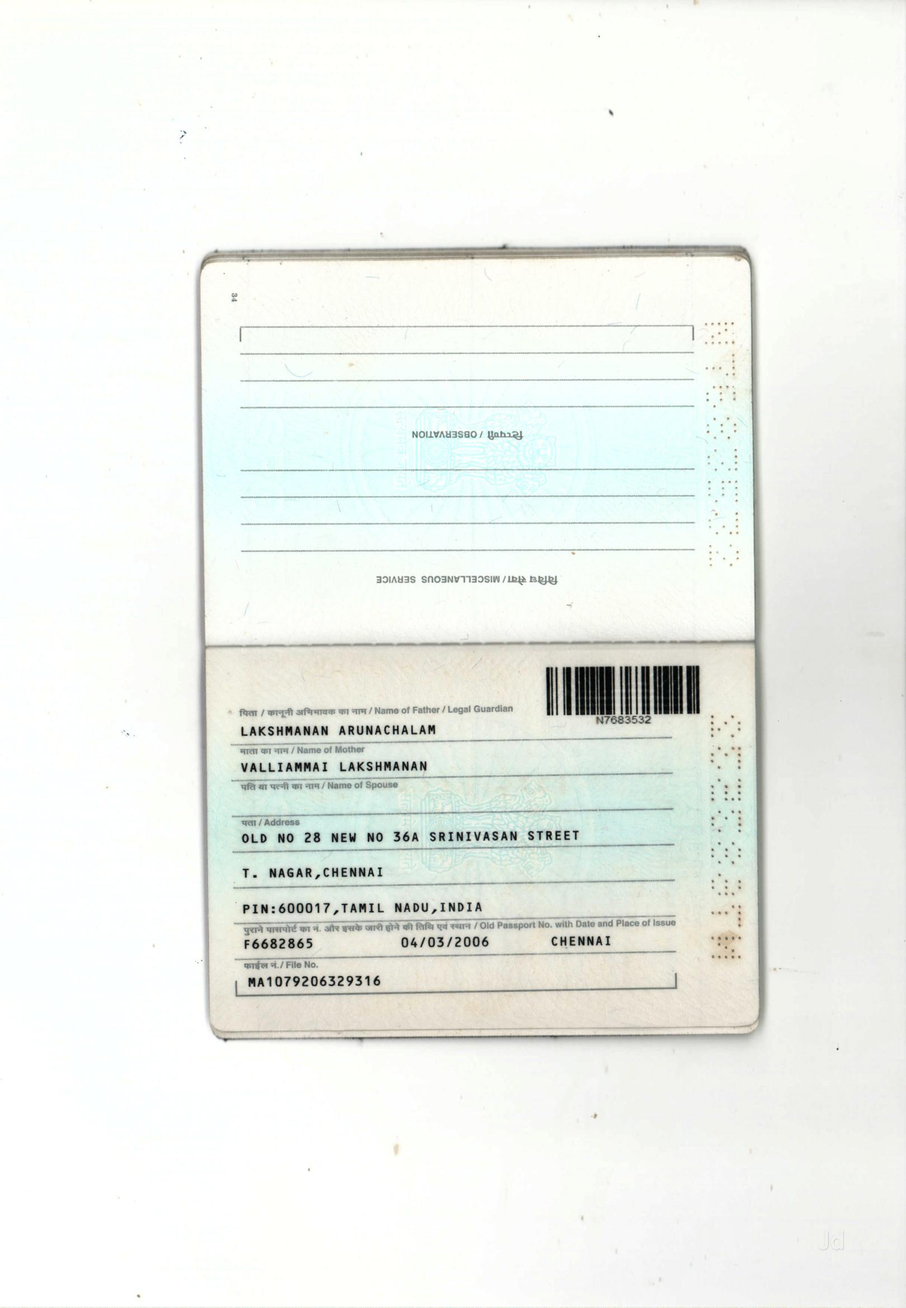File_no: (244, 971, 383, 995)
address: (236, 827, 587, 920)
father_name: (221, 707, 483, 746)
mother_name: (224, 755, 465, 788)
old_passport_details: (235, 926, 653, 955)
passport_no: (593, 709, 660, 733)
